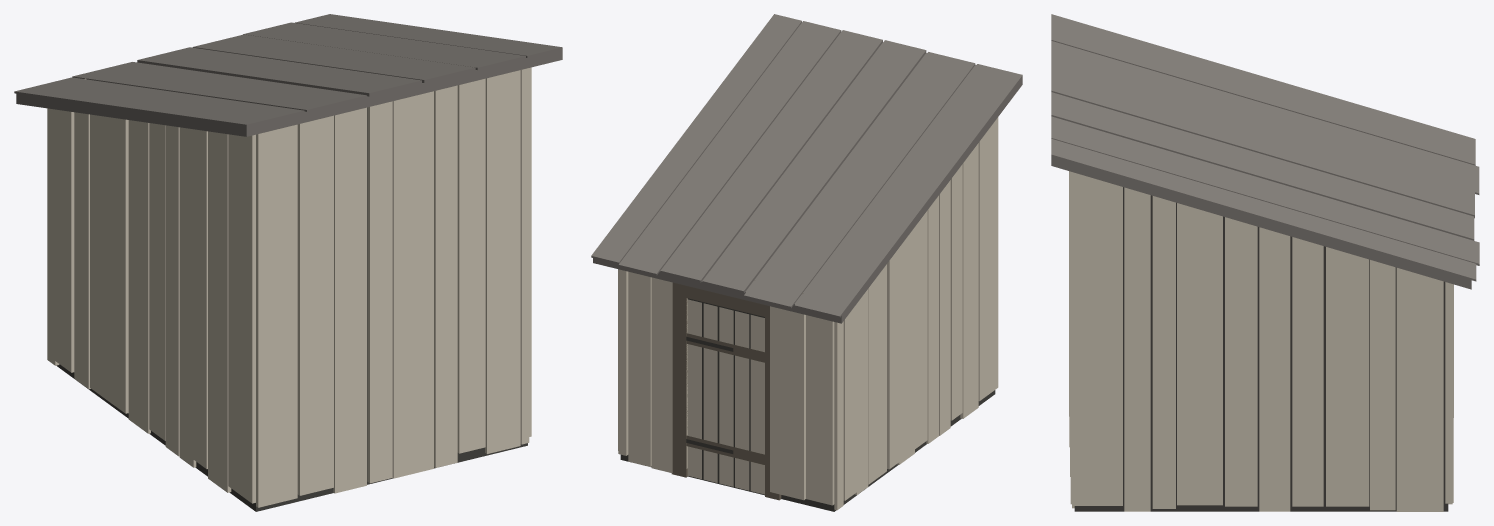
Rendered from recon_1835_blk_washington_clinton_a4_09__inferred_1835.glb.
3 renders of one model, left to right at view 1: azimuth 30°, elevation 25°; view 2: azimuth 150°, elevation 25°; view 3: azimuth 270°, elevation 25°, orthographic. The views are drawn at different scales.
Parts seen in each view (by area): view 1: recon_1835_blk_washington_clinton_a4_09__inferred_1835; view 2: recon_1835_blk_washington_clinton_a4_09__inferred_1835; view 3: recon_1835_blk_washington_clinton_a4_09__inferred_1835.
Boxes of the visible parts, bbox=[...] form: recon_1835_blk_washington_clinton_a4_09__inferred_1835: bbox=[14, 14, 562, 511]; recon_1835_blk_washington_clinton_a4_09__inferred_1835: bbox=[591, 14, 1022, 511]; recon_1835_blk_washington_clinton_a4_09__inferred_1835: bbox=[1051, 14, 1479, 511].
Bounding box in the file's own units: 2.72 × 3.32 × 3.5.
